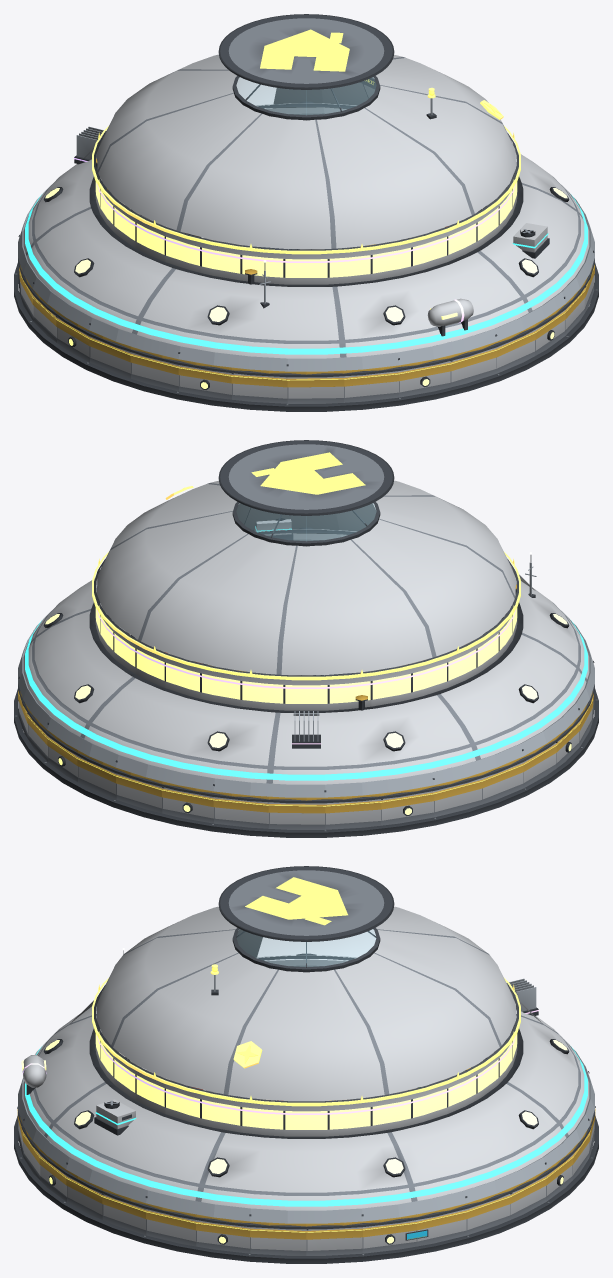
File: habitat_xl.glb
3 views of the same model, one above another, from view 1: azimuth 30°, elevation 25°; view 2: azimuth 150°, elevation 25°; view 3: azimuth 270°, elevation 25° (orthographic).
Visible parts, largest first — view 1: Roof, Base, L4, L5, Wall_21, Wall_20, Wall_22, Wall_19, Wall_23, Wall_18, Wall_24, Wall_17 (+14 smaller); view 2: Roof, Base, L5, L4, Wall_10, Wall_11, Wall_09, Wall_12, Wall_08, Wall_13, Wall_07, Wall_14 (+14 smaller); view 3: Roof, Base, L5, L4, Wall_00, Wall_31, Wall_30, Wall_01, Wall_29, Wall_02, Wall_28, Wall_03 (+12 smaller).
Part boxes in pixels (<box>): Roof: <box>18,14,594,377</box>; Base: <box>14,195,598,411</box>; L4: <box>74,126,515,336</box>; L5: <box>92,87,520,254</box>; Wall_21: <box>287,376,344,403</box>; Wall_20: <box>231,372,287,403</box>; Wall_22: <box>344,371,399,402</box>; Wall_19: <box>178,365,231,399</box>; Wall_23: <box>399,361,450,397</box>; Wall_18: <box>130,352,178,391</box>; Wall_24: <box>450,347,496,387</box>; Wall_17: <box>89,336,130,378</box>; Roof: <box>18,440,594,803</box>; Base: <box>14,620,598,837</box>; L5: <box>92,486,520,680</box>; L4: <box>97,610,515,748</box>; Wall_10: <box>268,802,325,829</box>; Wall_11: <box>325,799,381,829</box>; Wall_09: <box>213,797,268,828</box>; Wall_12: <box>381,791,434,825</box>; Wall_08: <box>162,786,213,823</box>; Wall_13: <box>434,778,482,817</box>; Wall_07: <box>116,773,162,813</box>; Wall_14: <box>482,762,523,804</box>; Roof: <box>18,866,594,1229</box>; Base: <box>14,1048,598,1263</box>; L5: <box>92,964,520,1106</box>; L4: <box>21,978,538,1114</box>; Wall_00: <box>306,1227,362,1255</box>; Wall_31: <box>250,1227,306,1255</box>; Wall_30: <box>196,1220,250,1253</box>; Wall_01: <box>362,1220,416,1253</box>; Wall_29: <box>146,1209,196,1246</box>; Wall_02: <box>416,1209,466,1246</box>; Wall_28: <box>102,1193,146,1235</box>; Wall_03: <box>466,1194,510,1235</box>.
Bounding box in the file's own units: 25.25 × 11.3 × 25.25.
